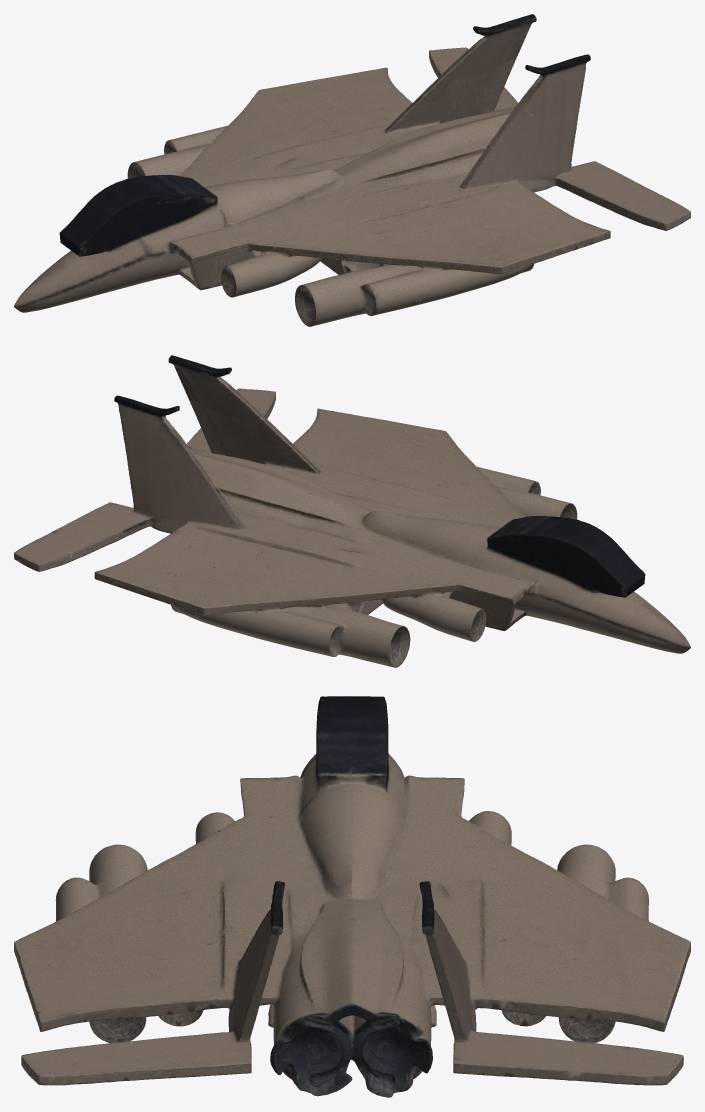
File: F-15_cardboard_craft.glb
3 renders of one model, top to bottom at view 1: azimuth 30°, elevation 25°; view 2: azimuth 150°, elevation 25°; view 3: azimuth 270°, elevation 25°, orthographic. The views are drawn at different scales.
Size of the model in its own units: 1.9 by 0.4821 by 1.41.
1 material, 1 textured.
